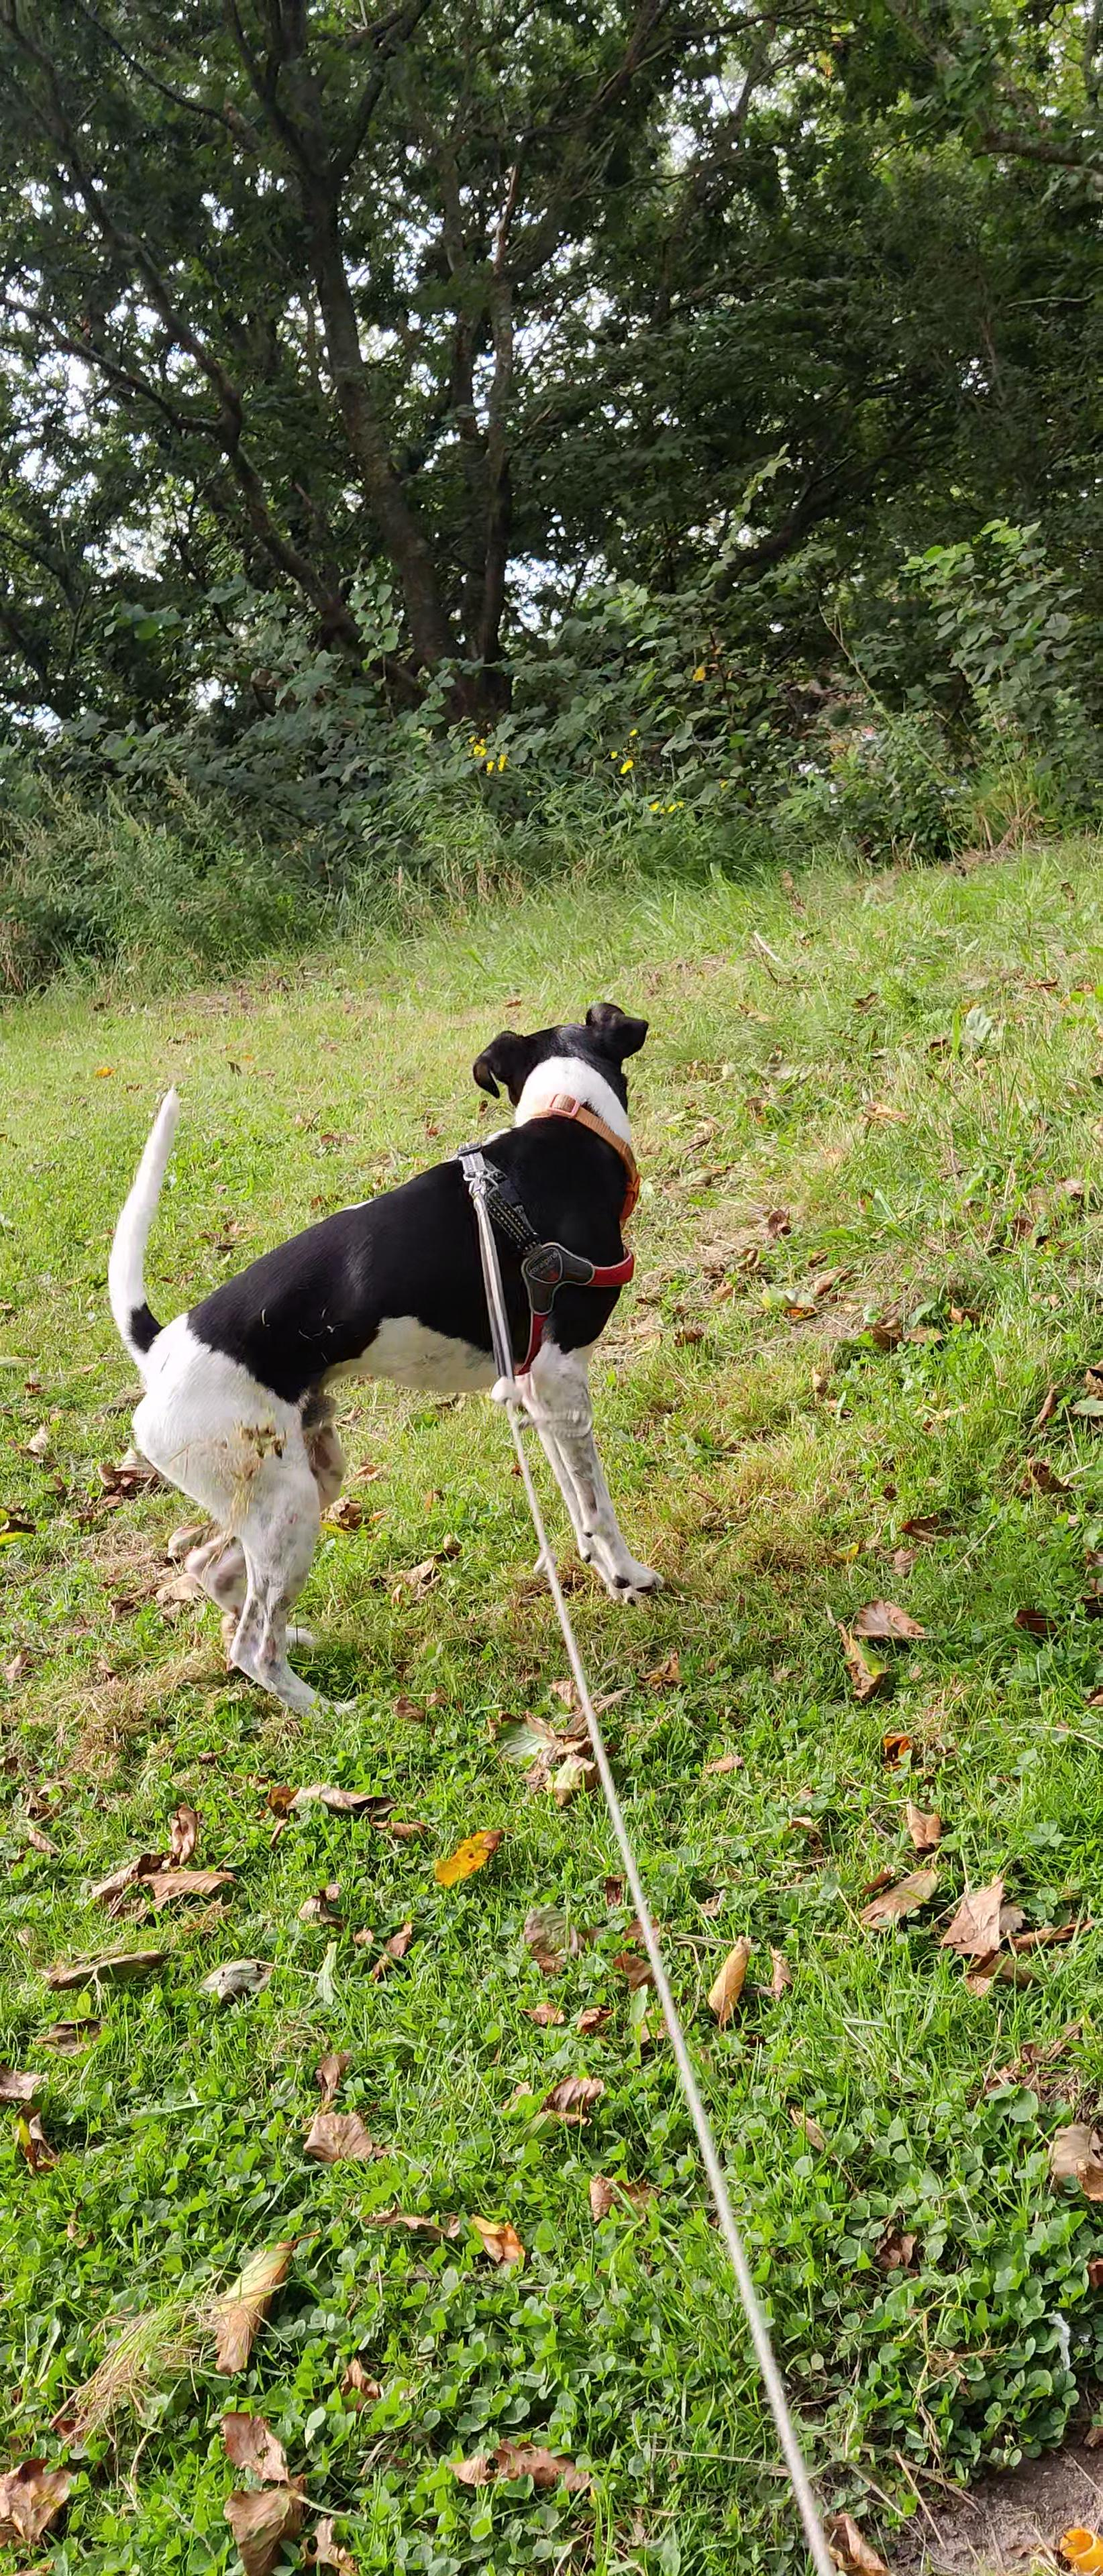Dog: (94, 994, 704, 1732)
